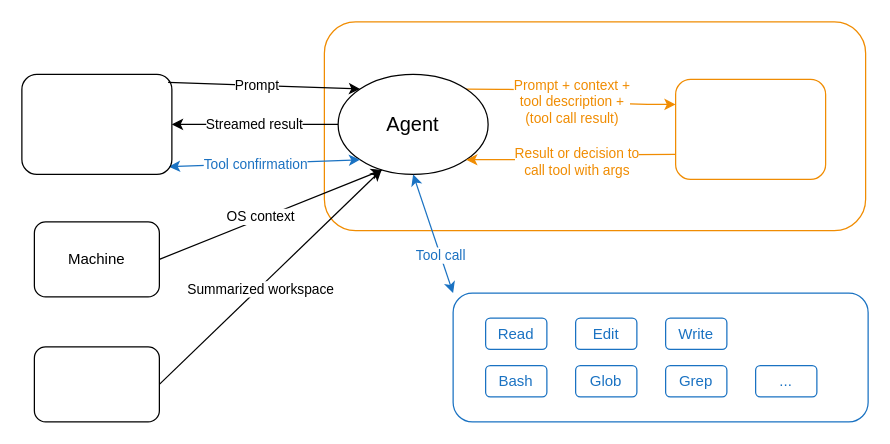
Image size: 890x444. Some labels were removed from this diagram. Here are the shapes that lost their labels. From the top down, the box of each, then its label:
(21, 73, 172, 174): User
(323, 21, 866, 231): Loop
(674, 78, 826, 179): LLM
(452, 292, 868, 422): Tools
(33, 346, 159, 422): Workspace
